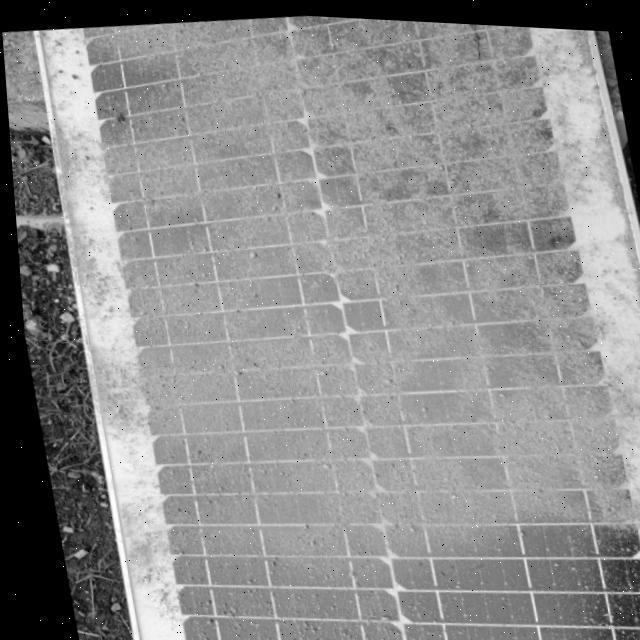Surface Contaminant: (59, 12, 640, 640)
